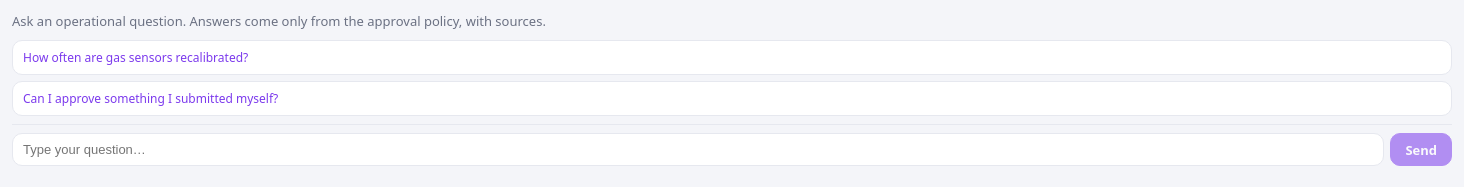
Test: ChatPanel: streaming state › shows policy citations in help mode
The image size is (1464, 187).
Type "gas sensors?" into the field named "message the assistant" at (698, 150), box 12,133 -> 1384,166
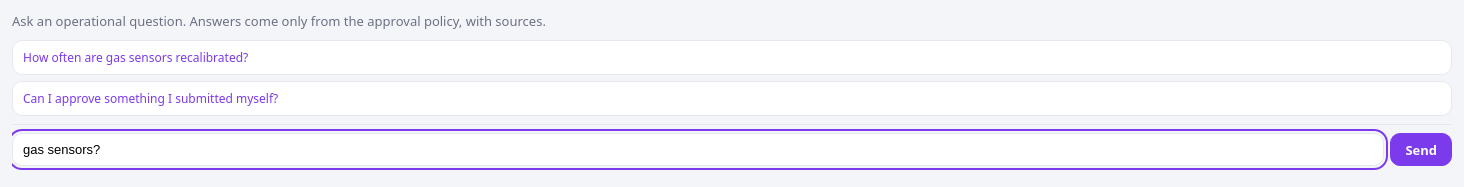
Click the button "Send" at (1421, 150), box 1390,133 -> 1452,166
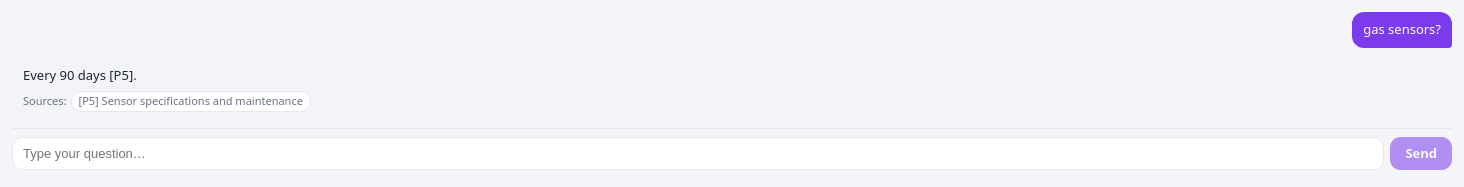
Expected: the text "[P5] Sensor specifications and maintenance" is shown, 70,91 -> 311,112
